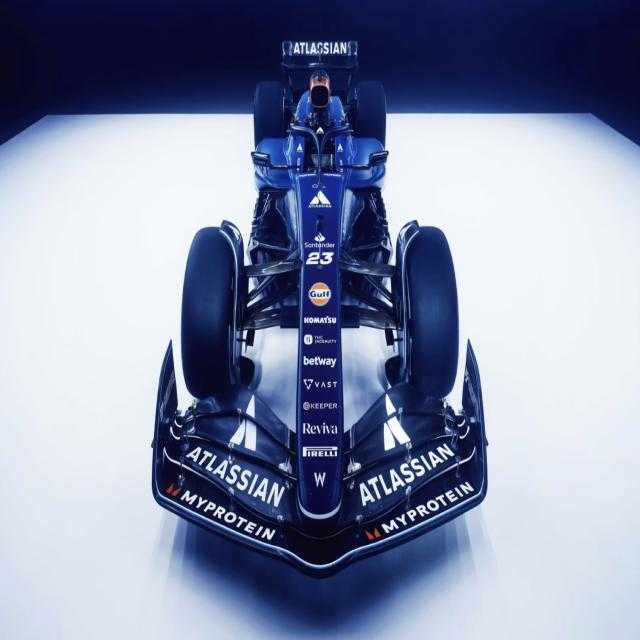Williams: (151, 38, 489, 580)
